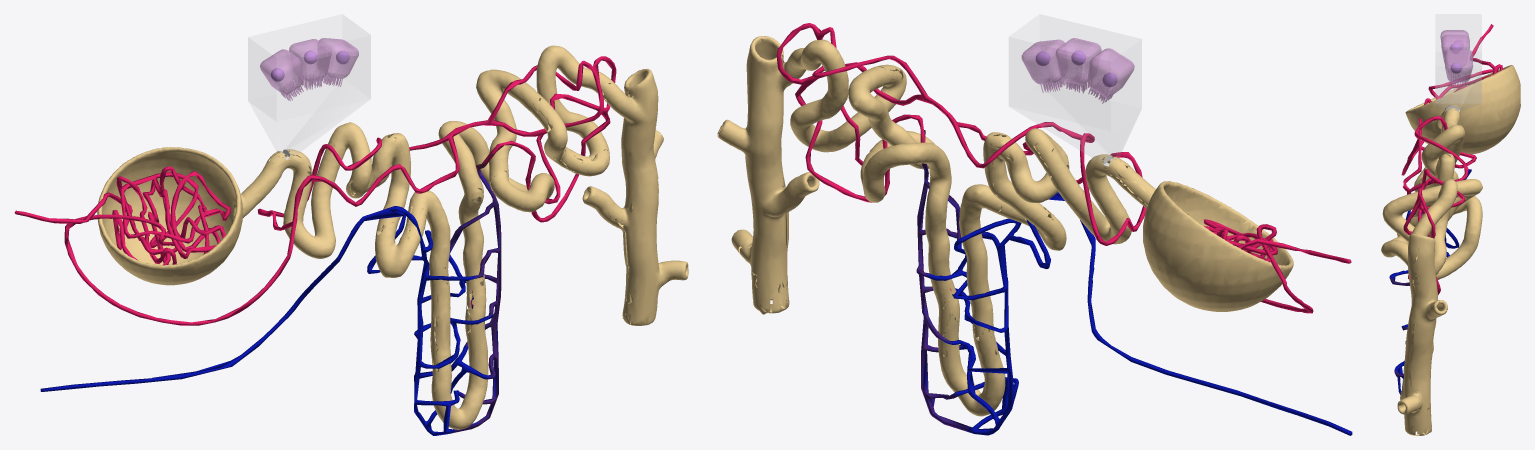
Rendered from nephron.glb.
3 renders of one model, left to right at view 1: azimuth 30°, elevation 25°; view 2: azimuth 150°, elevation 25°; view 3: azimuth 270°, elevation 25°, orthographic. The views are drawn at different scales.
Visible parts, largest first — view 1: nephron_mesher, capillary_artery, capillary_vein, Cube, Pyramid, cell_left, cell_middle, cell_right; view 2: nephron_mesher, capillary_vein, capillary_artery, Cube, Pyramid, cell_left, cell_middle, cell_right; view 3: nephron_mesher, capillary_artery, Cube, Pyramid, cell_right, capillary_vein, cell_middle, cell_left.
Boxes of the visible parts, x1,y1,x2,y2 form: nephron_mesher: (97,45,688,429); capillary_artery: (14,56,616,325); capillary_vein: (40,153,501,435); Cube: (248,14,370,121); Pyramid: (249,79,369,158); cell_left: (260,49,303,101); cell_middle: (289,39,331,90); cell_right: (319,38,358,86); nephron_mesher: (717,36,1293,416); capillary_vein: (916,130,1352,435); capillary_artery: (776,23,1351,313); Cube: (1009,14,1141,130); Pyramid: (1009,85,1140,164); cell_left: (1087,48,1134,103); cell_middle: (1055,38,1101,93); cell_right: (1021,39,1066,92); nephron_mesher: (1381,65,1520,435); capillary_artery: (1401,24,1503,294); Cube: (1436,14,1481,102); Pyramid: (1436,67,1481,111); cell_right: (1444,49,1473,87); capillary_vein: (1389,169,1471,394); cell_middle: (1441,34,1469,65); cell_left: (1440,30,1468,48).
Bounding box in the file's own units: 1015 × 639 × 242.
7 materials, 1 textured.
